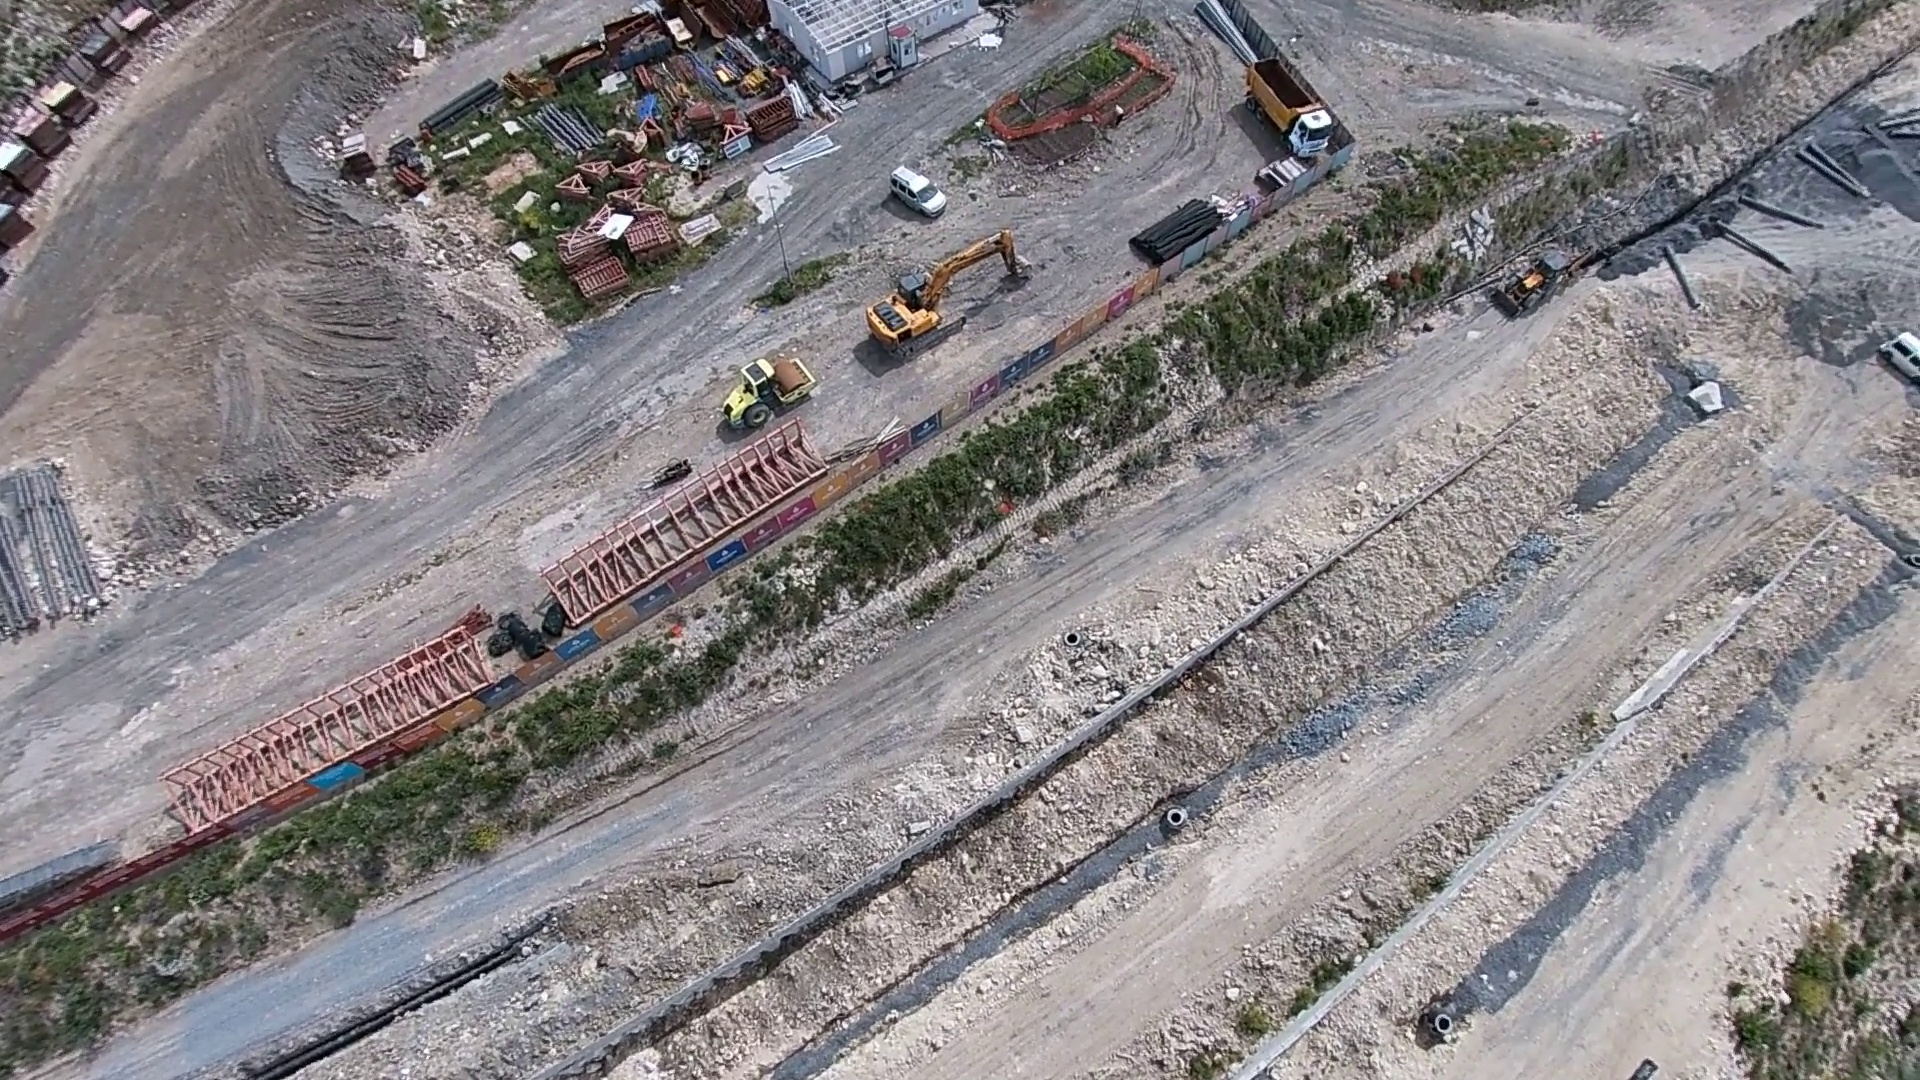arac: (873, 222, 1036, 373), (1240, 50, 1338, 165), (721, 349, 827, 440), (1501, 237, 1578, 315), (884, 160, 952, 223), (1882, 322, 1920, 386)
